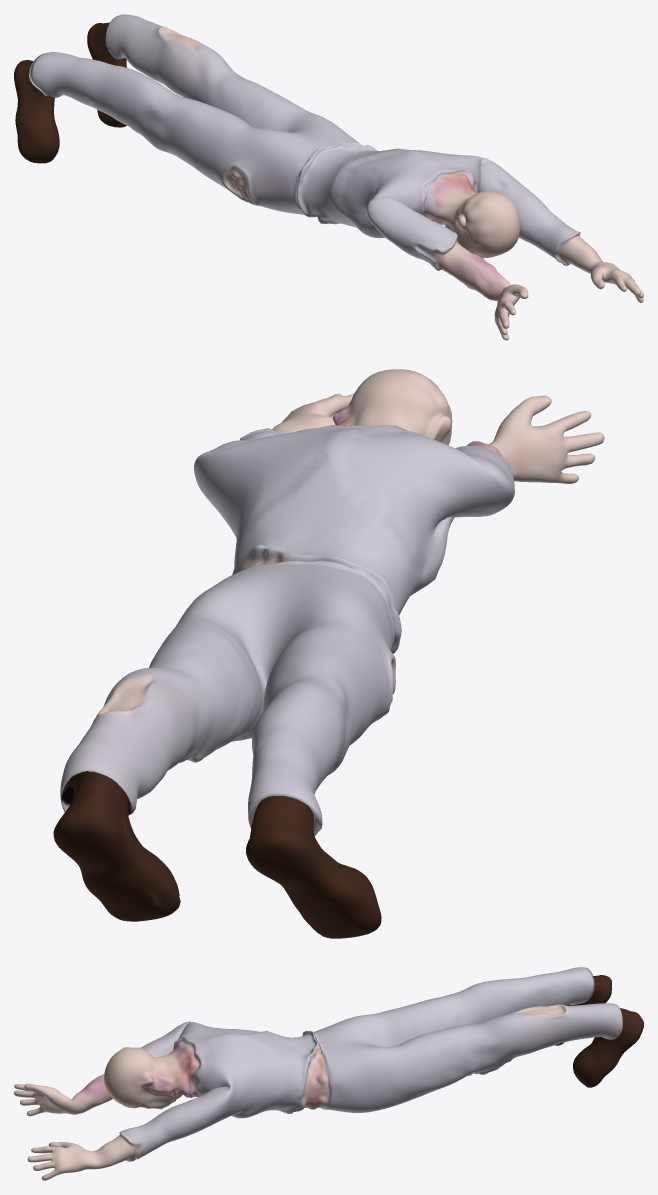
File: deadtestsubvar1.fbx
3 views of the same model, one above another, from view 1: azimuth 30°, elevation 25°; view 2: azimuth 150°, elevation 25°; view 3: azimuth 270°, elevation 25° (orthographic). The views are drawn at different scales.
Parts seen in each view (by area): view 1: TestSubject; view 2: TestSubject; view 3: TestSubject.
Boxes of the visible parts, box(x1,y1,x2,y2) form: TestSubject: box(14, 14, 643, 340); TestSubject: box(53, 369, 604, 938); TestSubject: box(14, 967, 643, 1180).
Size of the model in its own units: 2.37 by 1.29 by 0.3905.
